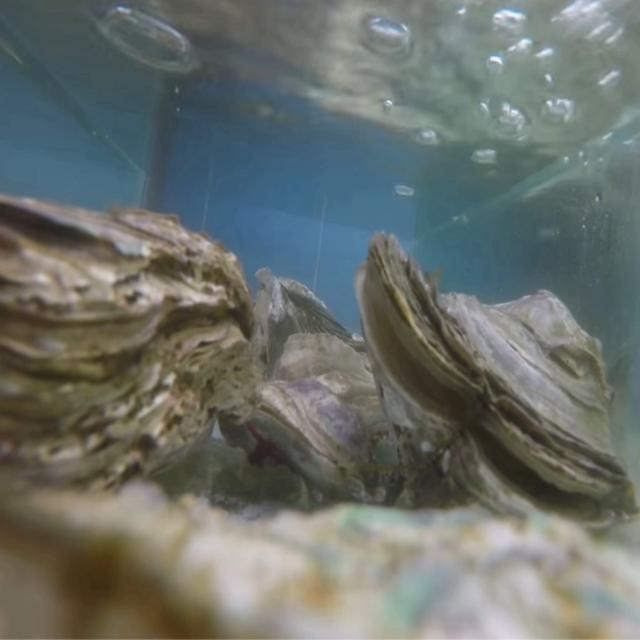Oyster-Closed: (0, 195, 257, 534), (247, 334, 414, 512)
Oyster-Indeterminate: (0, 482, 640, 640), (254, 266, 370, 383)
Oyster-Open: (355, 232, 640, 542)
